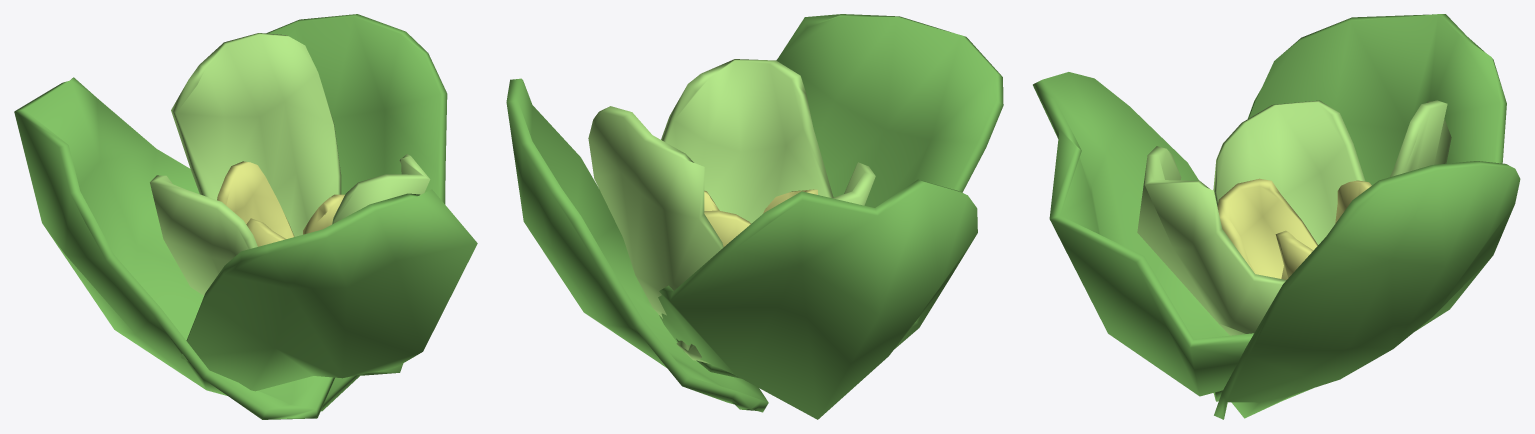
File: fbx_salad_medium.fbx
3 renders of one model, left to right at view 1: azimuth 30°, elevation 25°; view 2: azimuth 150°, elevation 25°; view 3: azimuth 270°, elevation 25°, orthographic. The views are drawn at different scales.
Parts seen in each view (by area): view 1: MediumSalad; view 2: MediumSalad; view 3: MediumSalad.
Part boxes in pixels (x1,y1,x2,y2): MediumSalad: (14,14,477,419); MediumSalad: (506,14,1003,419); MediumSalad: (1033,14,1520,419).
Size of the model in its own units: 42.73 by 32.38 by 44.01.
